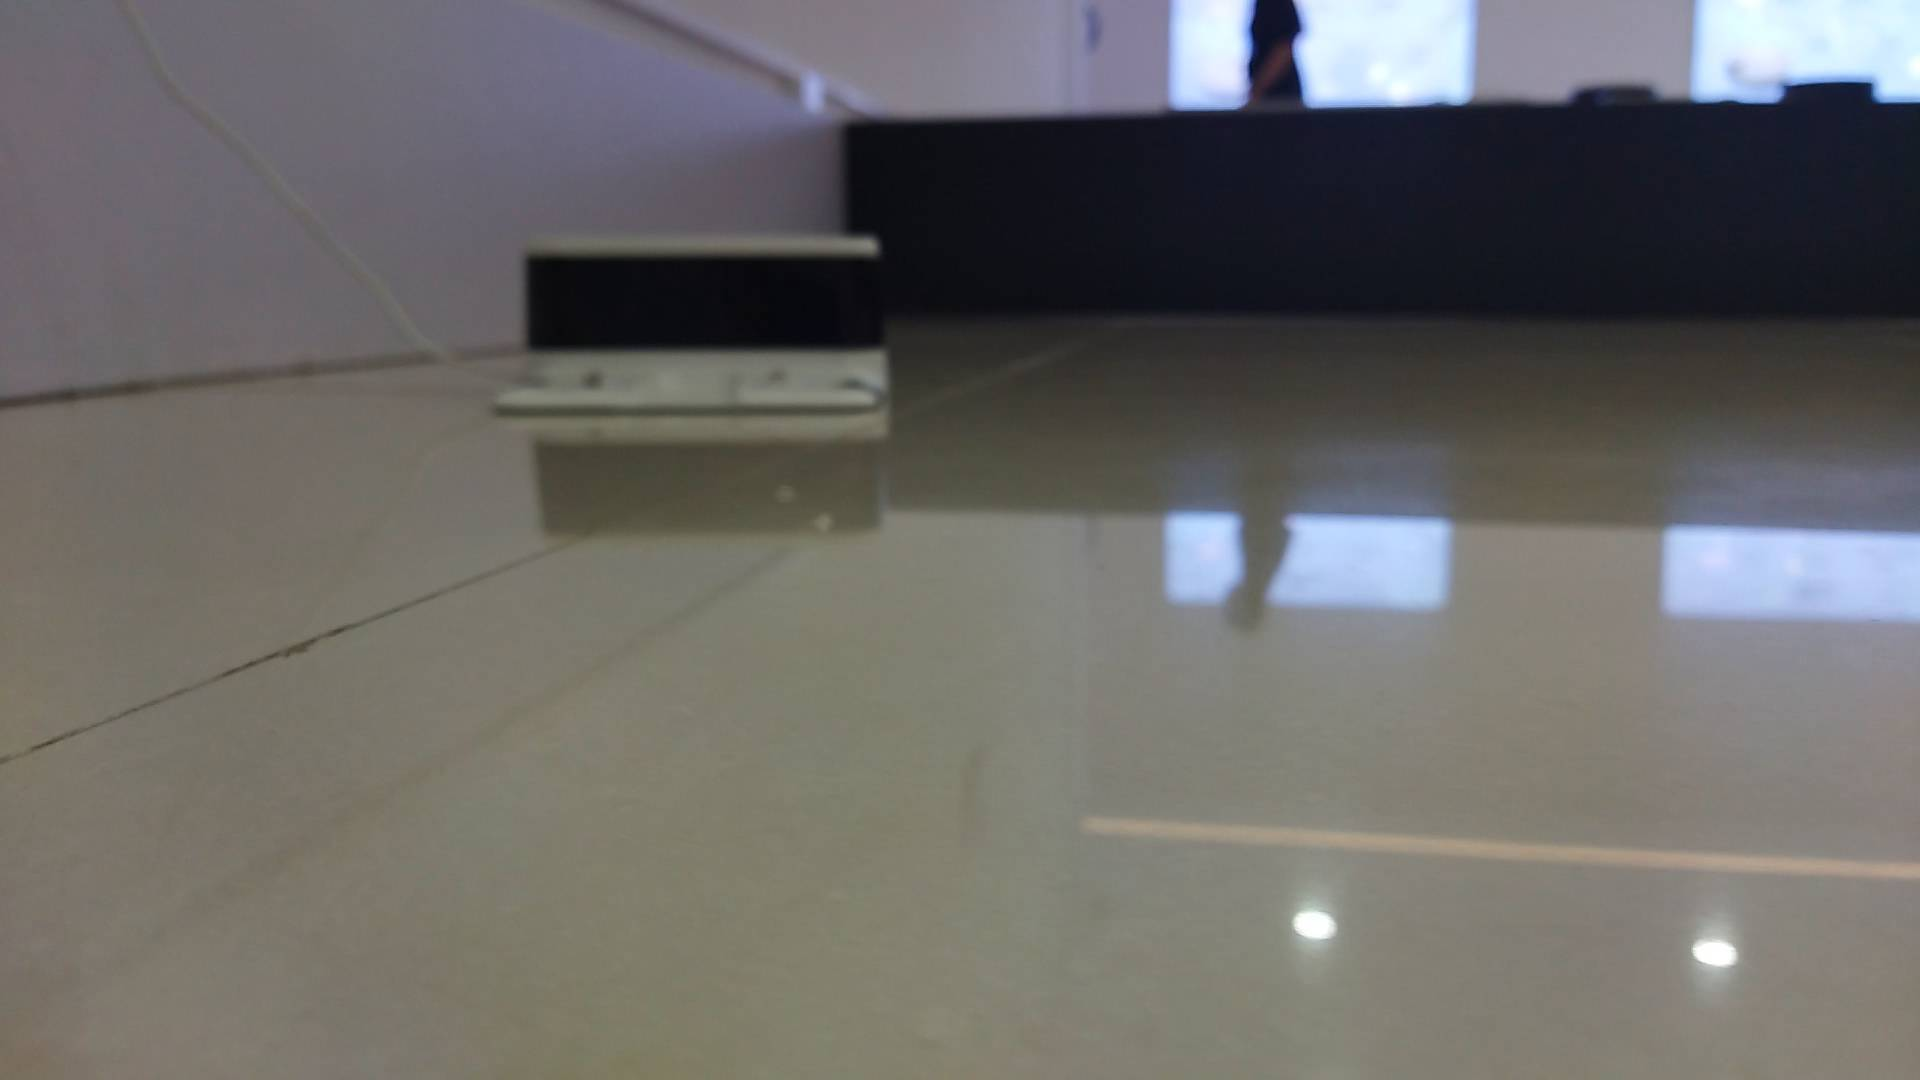recharge seat: (491, 231, 893, 417)
